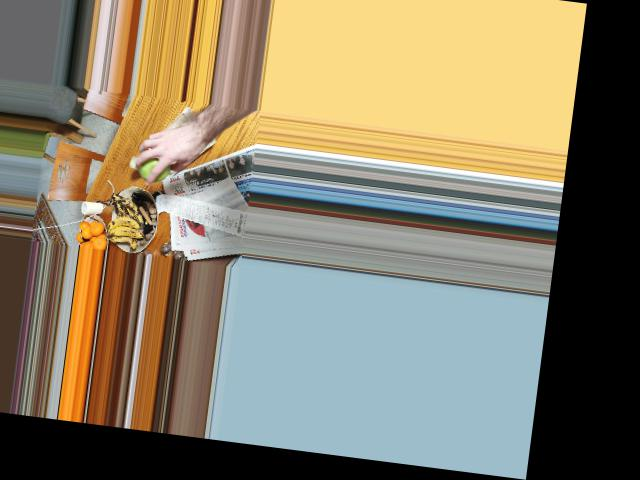apple: (135, 146, 174, 183)
